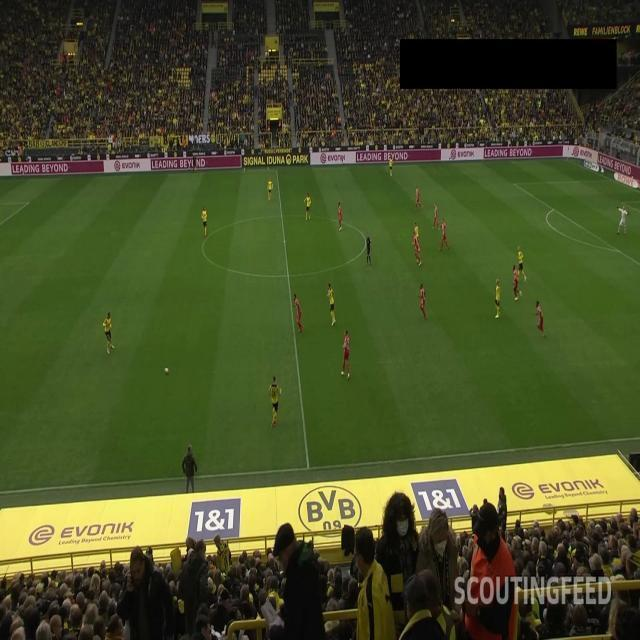ball: (164, 368, 169, 376)
goalkeeper: (617, 204, 630, 235)
player: (269, 374, 282, 427), (533, 300, 547, 338), (103, 312, 115, 356), (341, 329, 350, 380), (327, 283, 337, 327), (293, 293, 304, 333), (517, 245, 527, 283), (439, 218, 450, 251), (413, 233, 423, 266), (419, 283, 427, 321), (513, 265, 521, 301), (303, 192, 312, 221), (495, 278, 501, 319), (201, 206, 208, 238), (432, 204, 440, 229), (267, 176, 274, 201), (416, 187, 423, 210), (338, 202, 343, 232), (389, 155, 394, 178)
referee: (366, 233, 372, 266), (192, 151, 197, 174)
